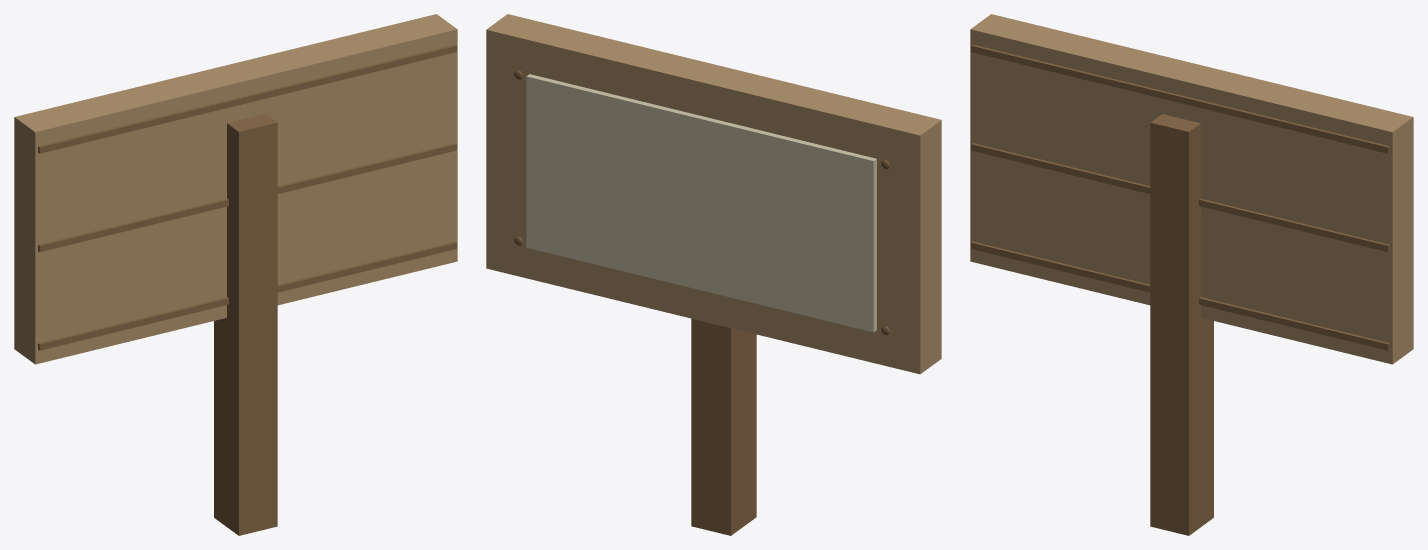
The model's file is sign_helpers.glb.
The picture shows the model from 3 angles, left to right: view 1: azimuth 30°, elevation 25°; view 2: azimuth 150°, elevation 25°; view 3: azimuth 330°, elevation 25°; orthographic projection. The views are drawn at different scales.
Bounding box in the file's own units: 1.75 × 1.75 × 0.2575.
